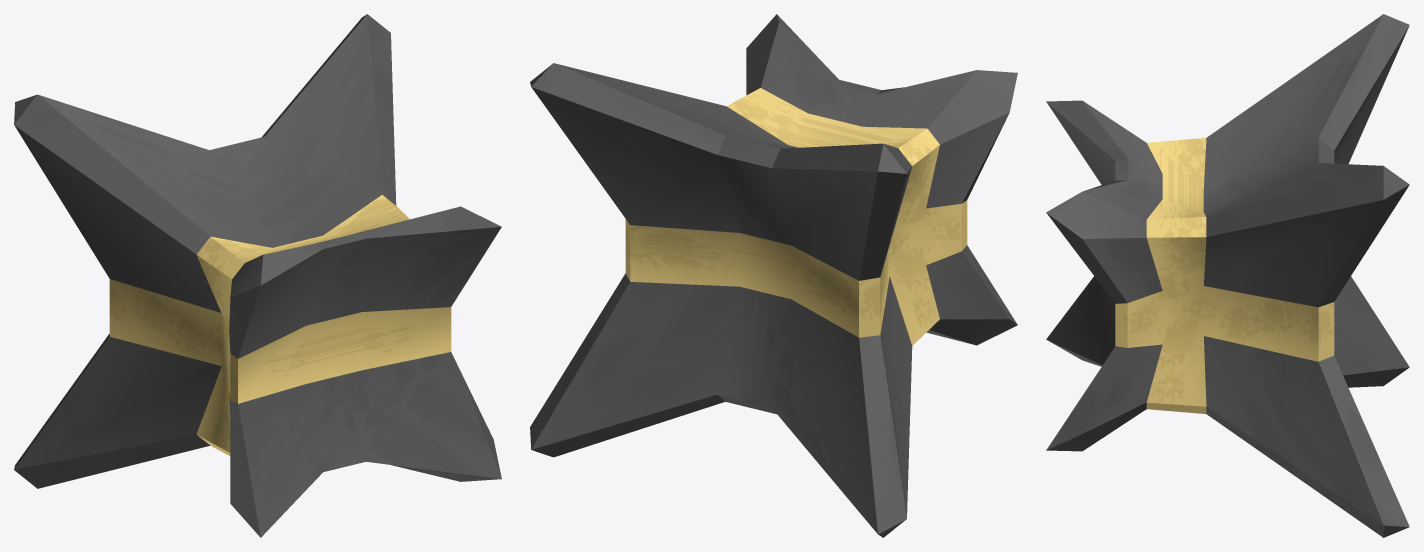
The model's file is SwicthStand.fbx.
3 views of the same model, side by side, from view 1: azimuth 30°, elevation 25°; view 2: azimuth 150°, elevation 25°; view 3: azimuth 270°, elevation 25° (orthographic). The views are drawn at different scales.
Visible parts, largest first — view 1: SwicthStand; view 2: SwicthStand; view 3: SwicthStand.
Part boxes in pixels (x1=…): SwicthStand: x1=14, y1=14, x2=501, y2=537; SwicthStand: x1=530, y1=14, x2=1017, y2=537; SwicthStand: x1=1046, y1=14, x2=1409, y2=537.
Size of the model in its own units: 0.677 by 0.677 by 0.5998.
Materials: 1 (1 with a texture image).
